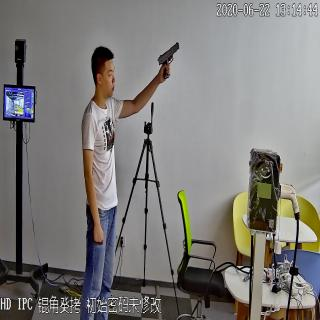gun: (157, 40, 180, 80)
